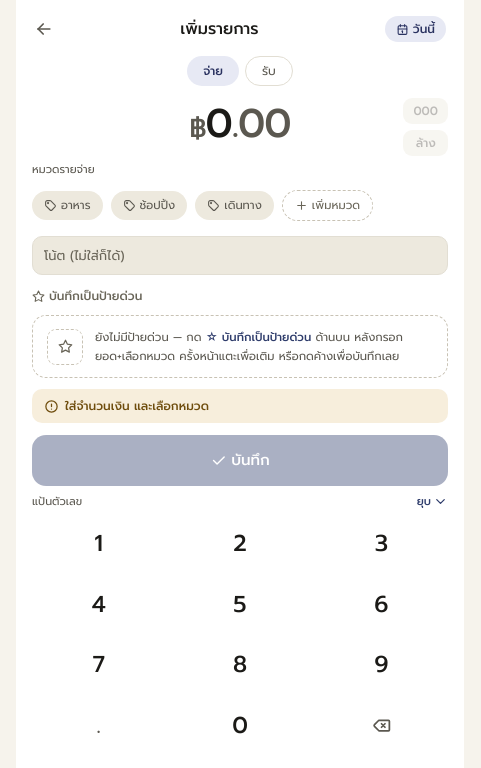
Scenario: AddPage — collapsible keypad (§1) › collapses via the header toggle — the grid leaves the DOM
The width and height of the screenshot is (481, 768).
Click the button named "ยุบแป้นตัวเลข" at (432, 502), box [417,494,448,510]
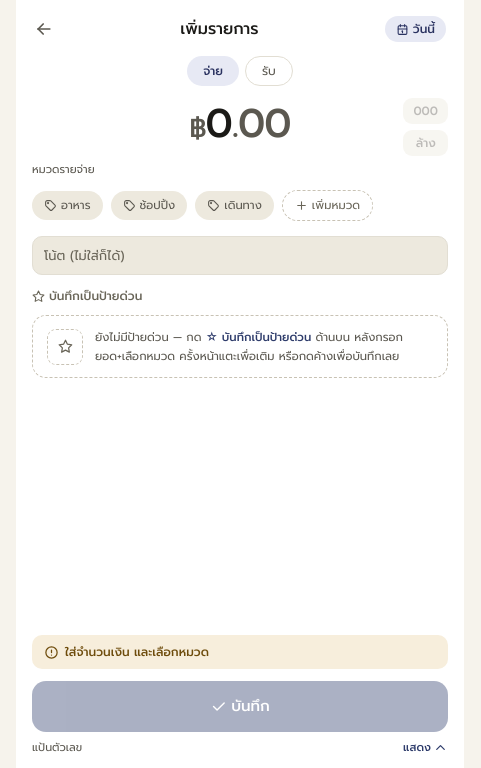
Expected: the button "1" is gone
Expected: the button with aria-label "แสดงแป้นตัวเลข" is collapsed, [403,740,448,756]
